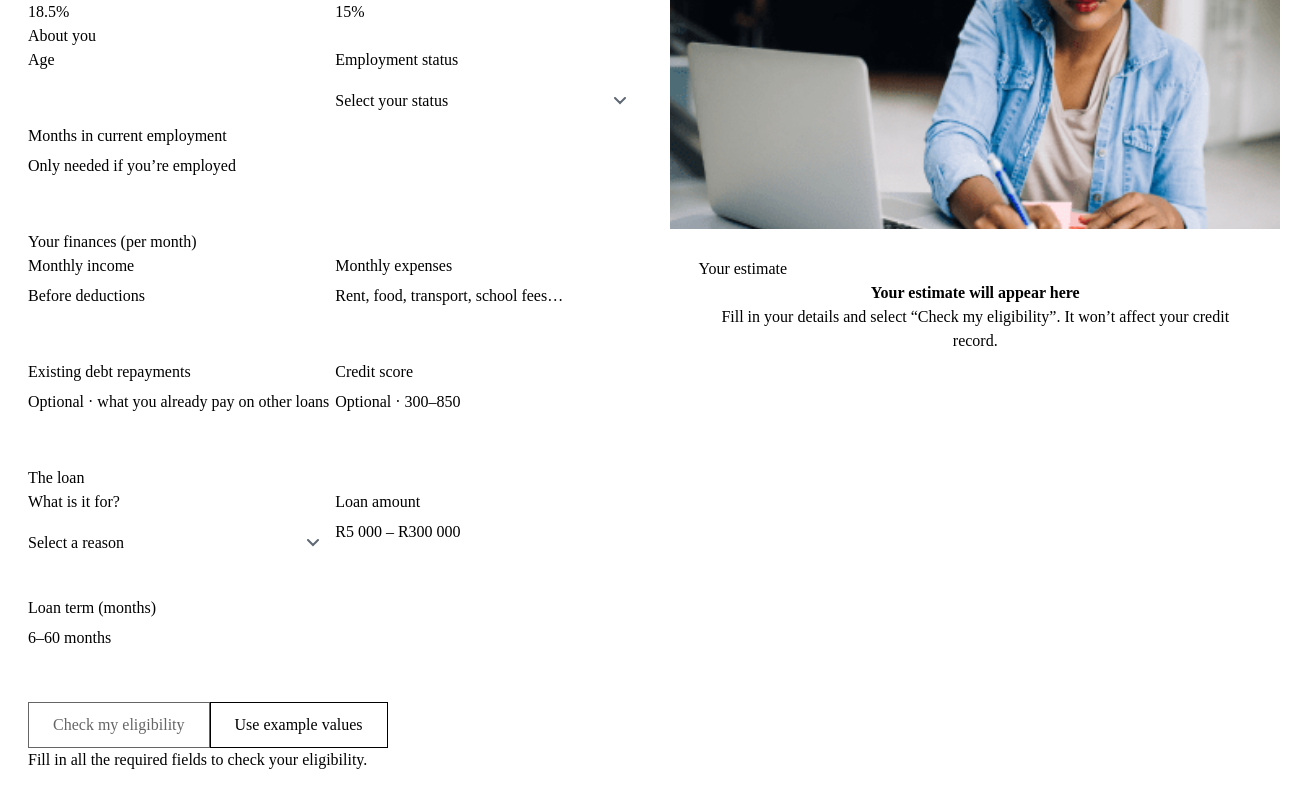
Test: EligibilityChecker › keeps the image when the form has errors and no check runs
The image size is (1292, 800).
(page scrolled)
Click the button "Use example values": click(298, 725) [210, 702, 388, 748]
(page scrolled)
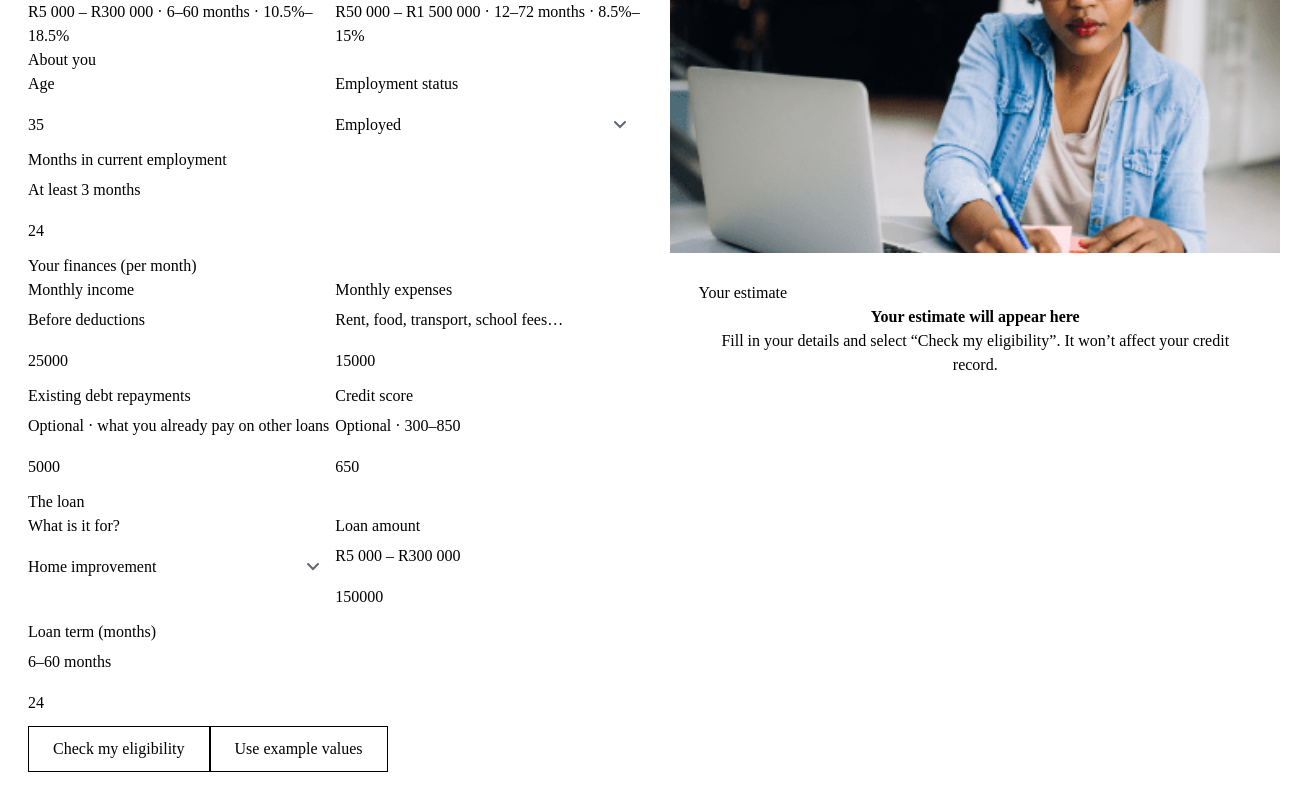
Replace the text in the field labelled "Age" with "70": (182, 125) [28, 102, 335, 148]
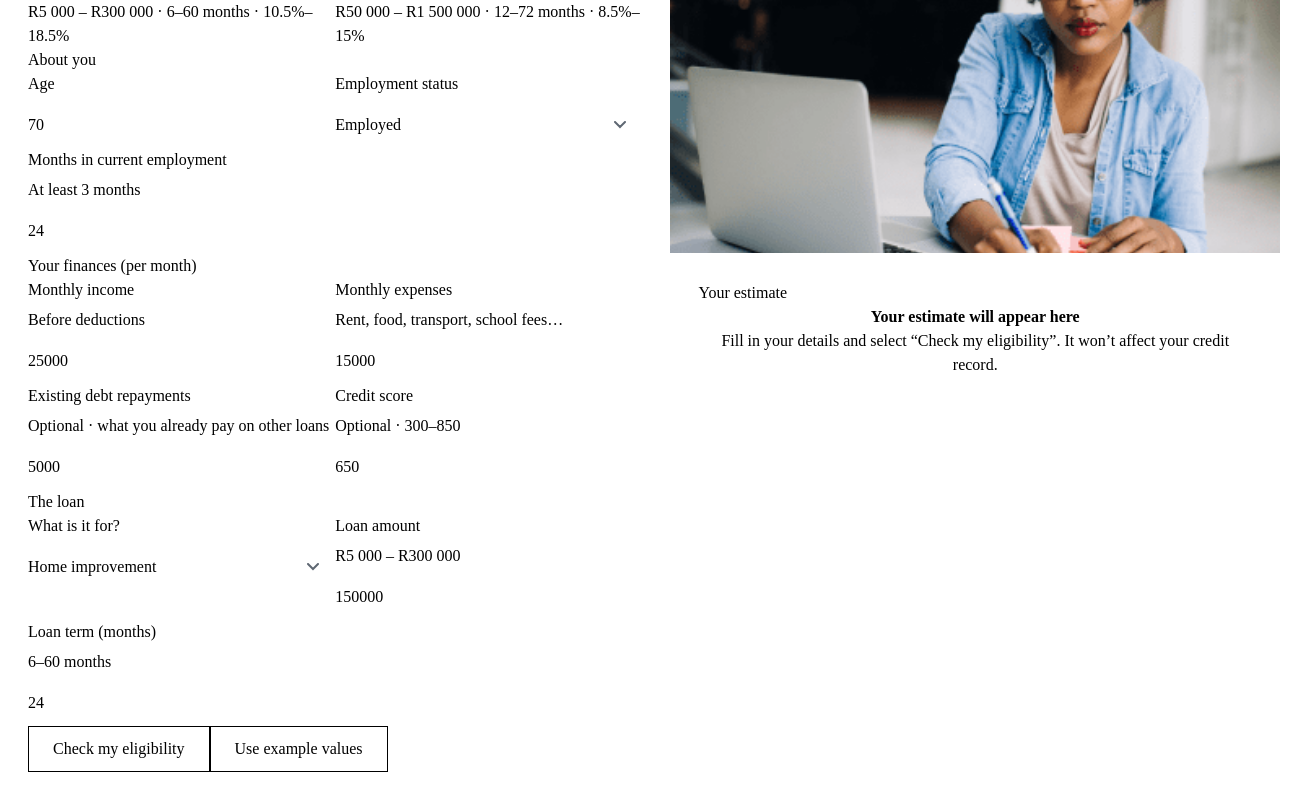
Click the button "Check my eligibility": click(119, 749) [28, 726, 210, 772]
(page scrolled)
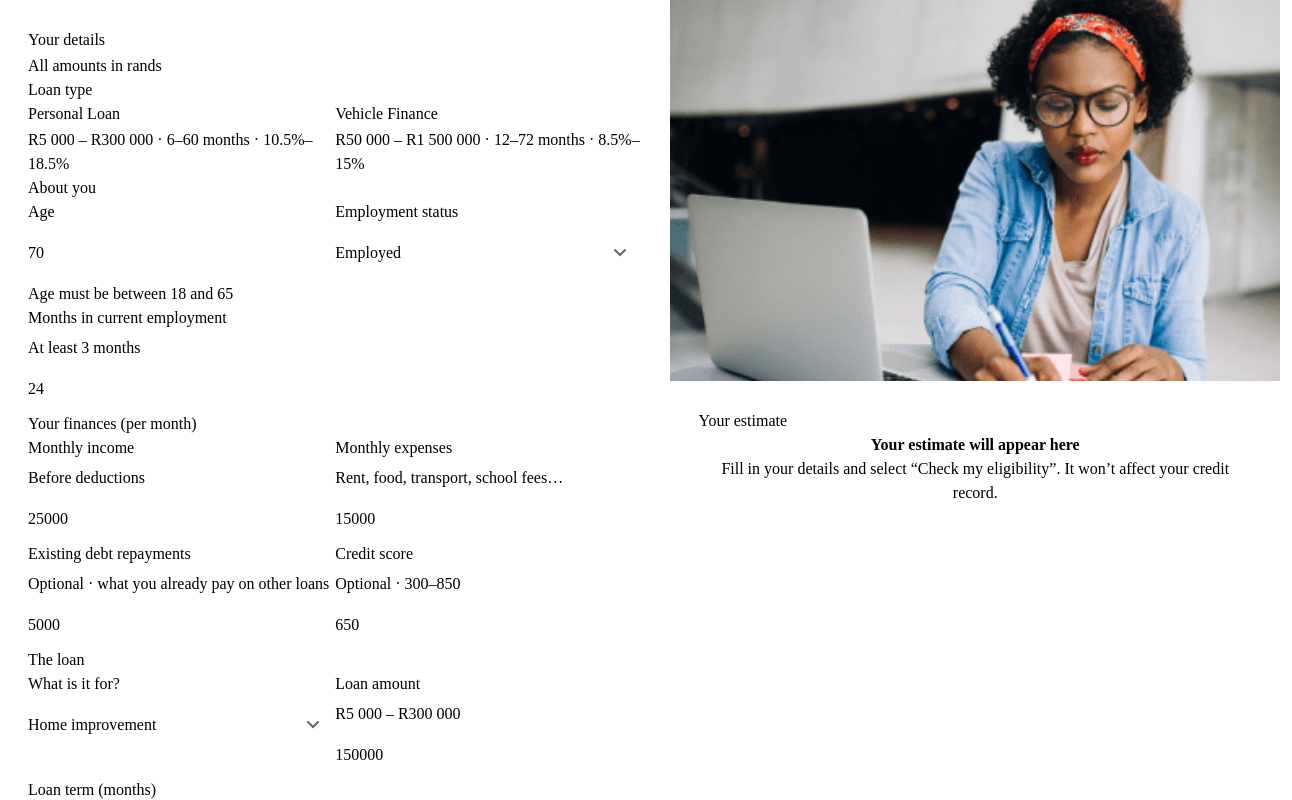
Expected: the picture is shown, [670, 0, 1280, 381]
Expected: the text "Age must be between 18 and 65" is shown, [28, 285, 233, 302]
